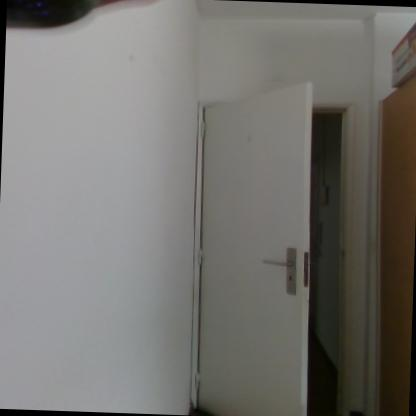semi: (182, 75, 378, 416)
